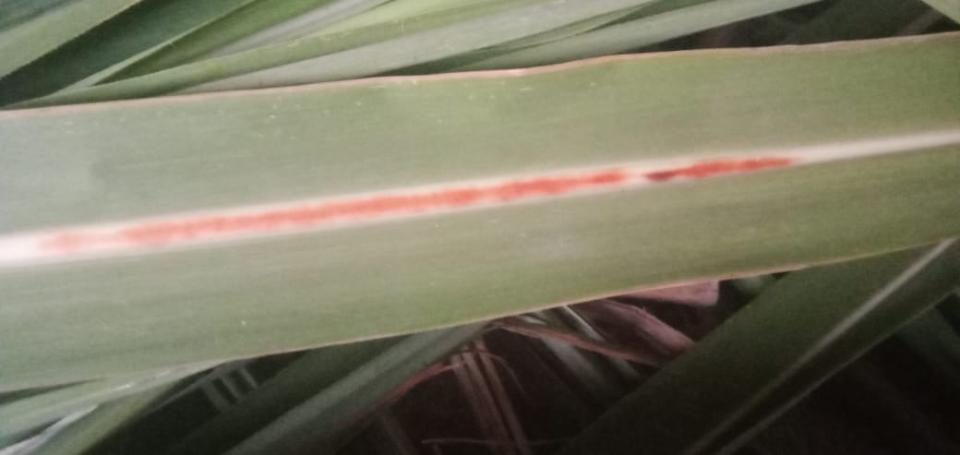RedRot: (29, 155, 802, 260)
